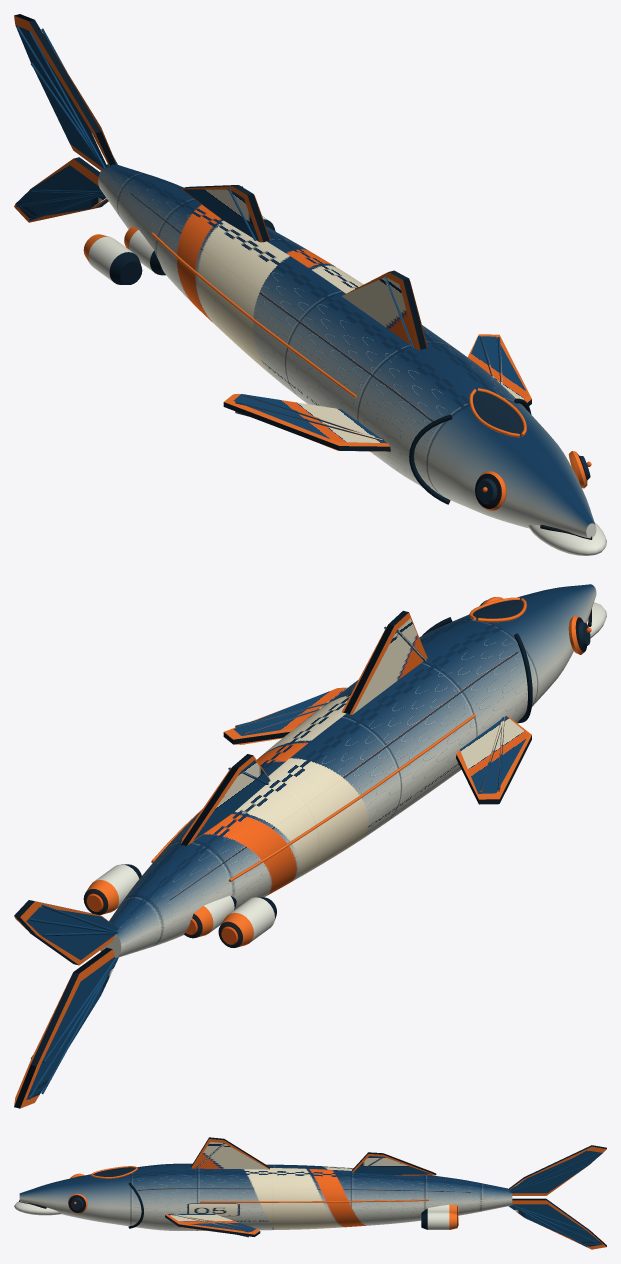
The picture shows the model from 3 angles, top to bottom: view 1: azimuth 30°, elevation 25°; view 2: azimuth 150°, elevation 25°; view 3: azimuth 270°, elevation 25°; orthographic projection. The views are drawn at different scales.
Visible parts, largest first — view 1: barracuda_hull; view 2: barracuda_hull; view 3: barracuda_hull.
Boxes of the visible parts, x1,y1,x2,y2 form: barracuda_hull: [14, 14, 606, 555]; barracuda_hull: [14, 584, 606, 1108]; barracuda_hull: [14, 1137, 606, 1249].
Bounding box in the file's own units: 10.99 × 8.25 × 40.
Materials: 1 (1 with a texture image).
